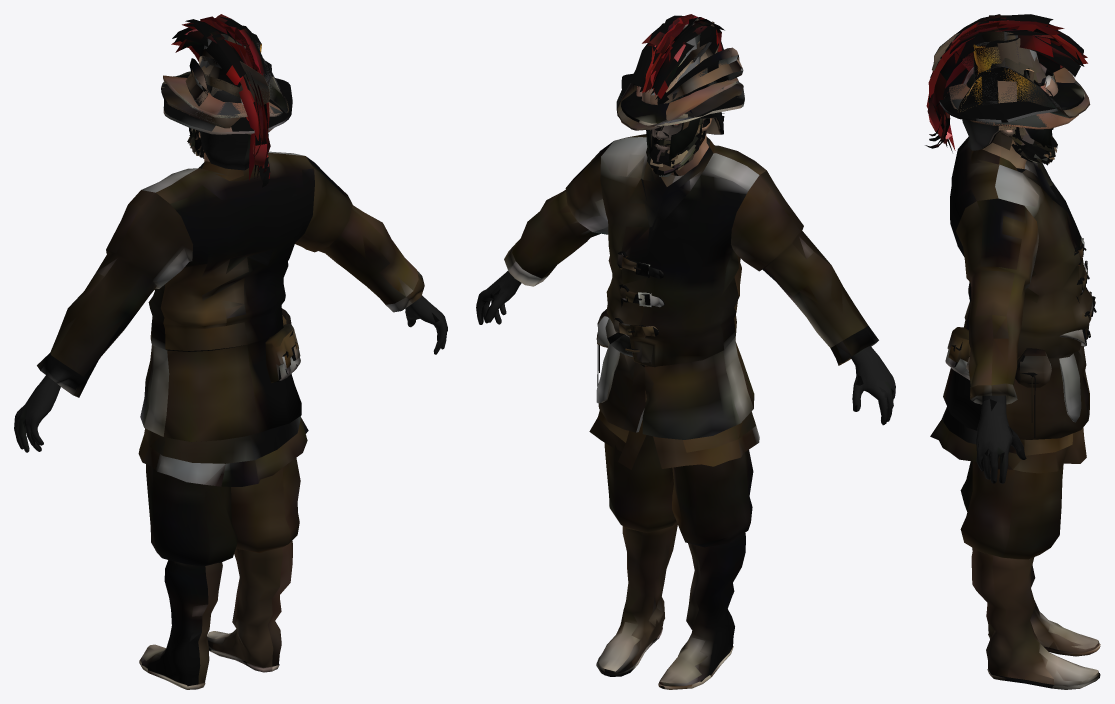
3 renders of one model, left to right at view 1: azimuth 30°, elevation 25°; view 2: azimuth 150°, elevation 25°; view 3: azimuth 270°, elevation 25°, orthographic. The views are drawn at different scales.
Parts seen in each view (by area): view 1: mesh_0; view 2: mesh_0; view 3: mesh_0.
Boxes of the visible parts, x1,y1,x2,y2 form: mesh_0: (14,14,447,689); mesh_0: (476,14,895,689); mesh_0: (925,14,1100,689).
Bounding box in the file's own units: 53.12 × 78.01 × 19.21.
1 material, 1 textured.
